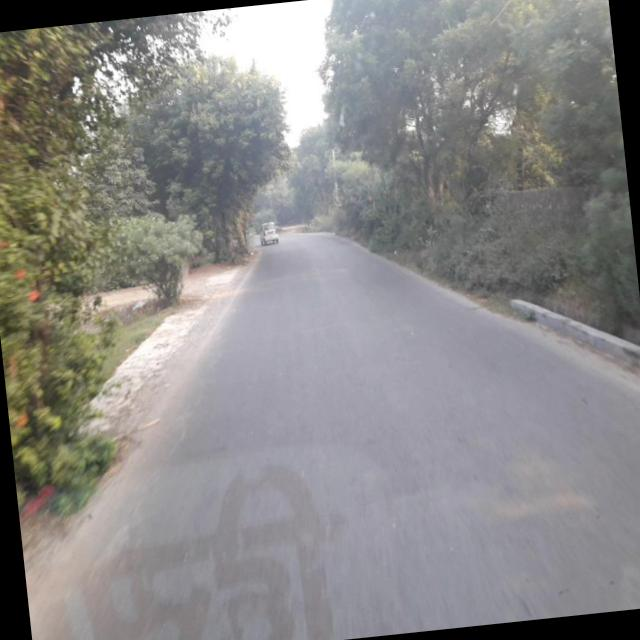crack: (499, 578, 562, 620)
